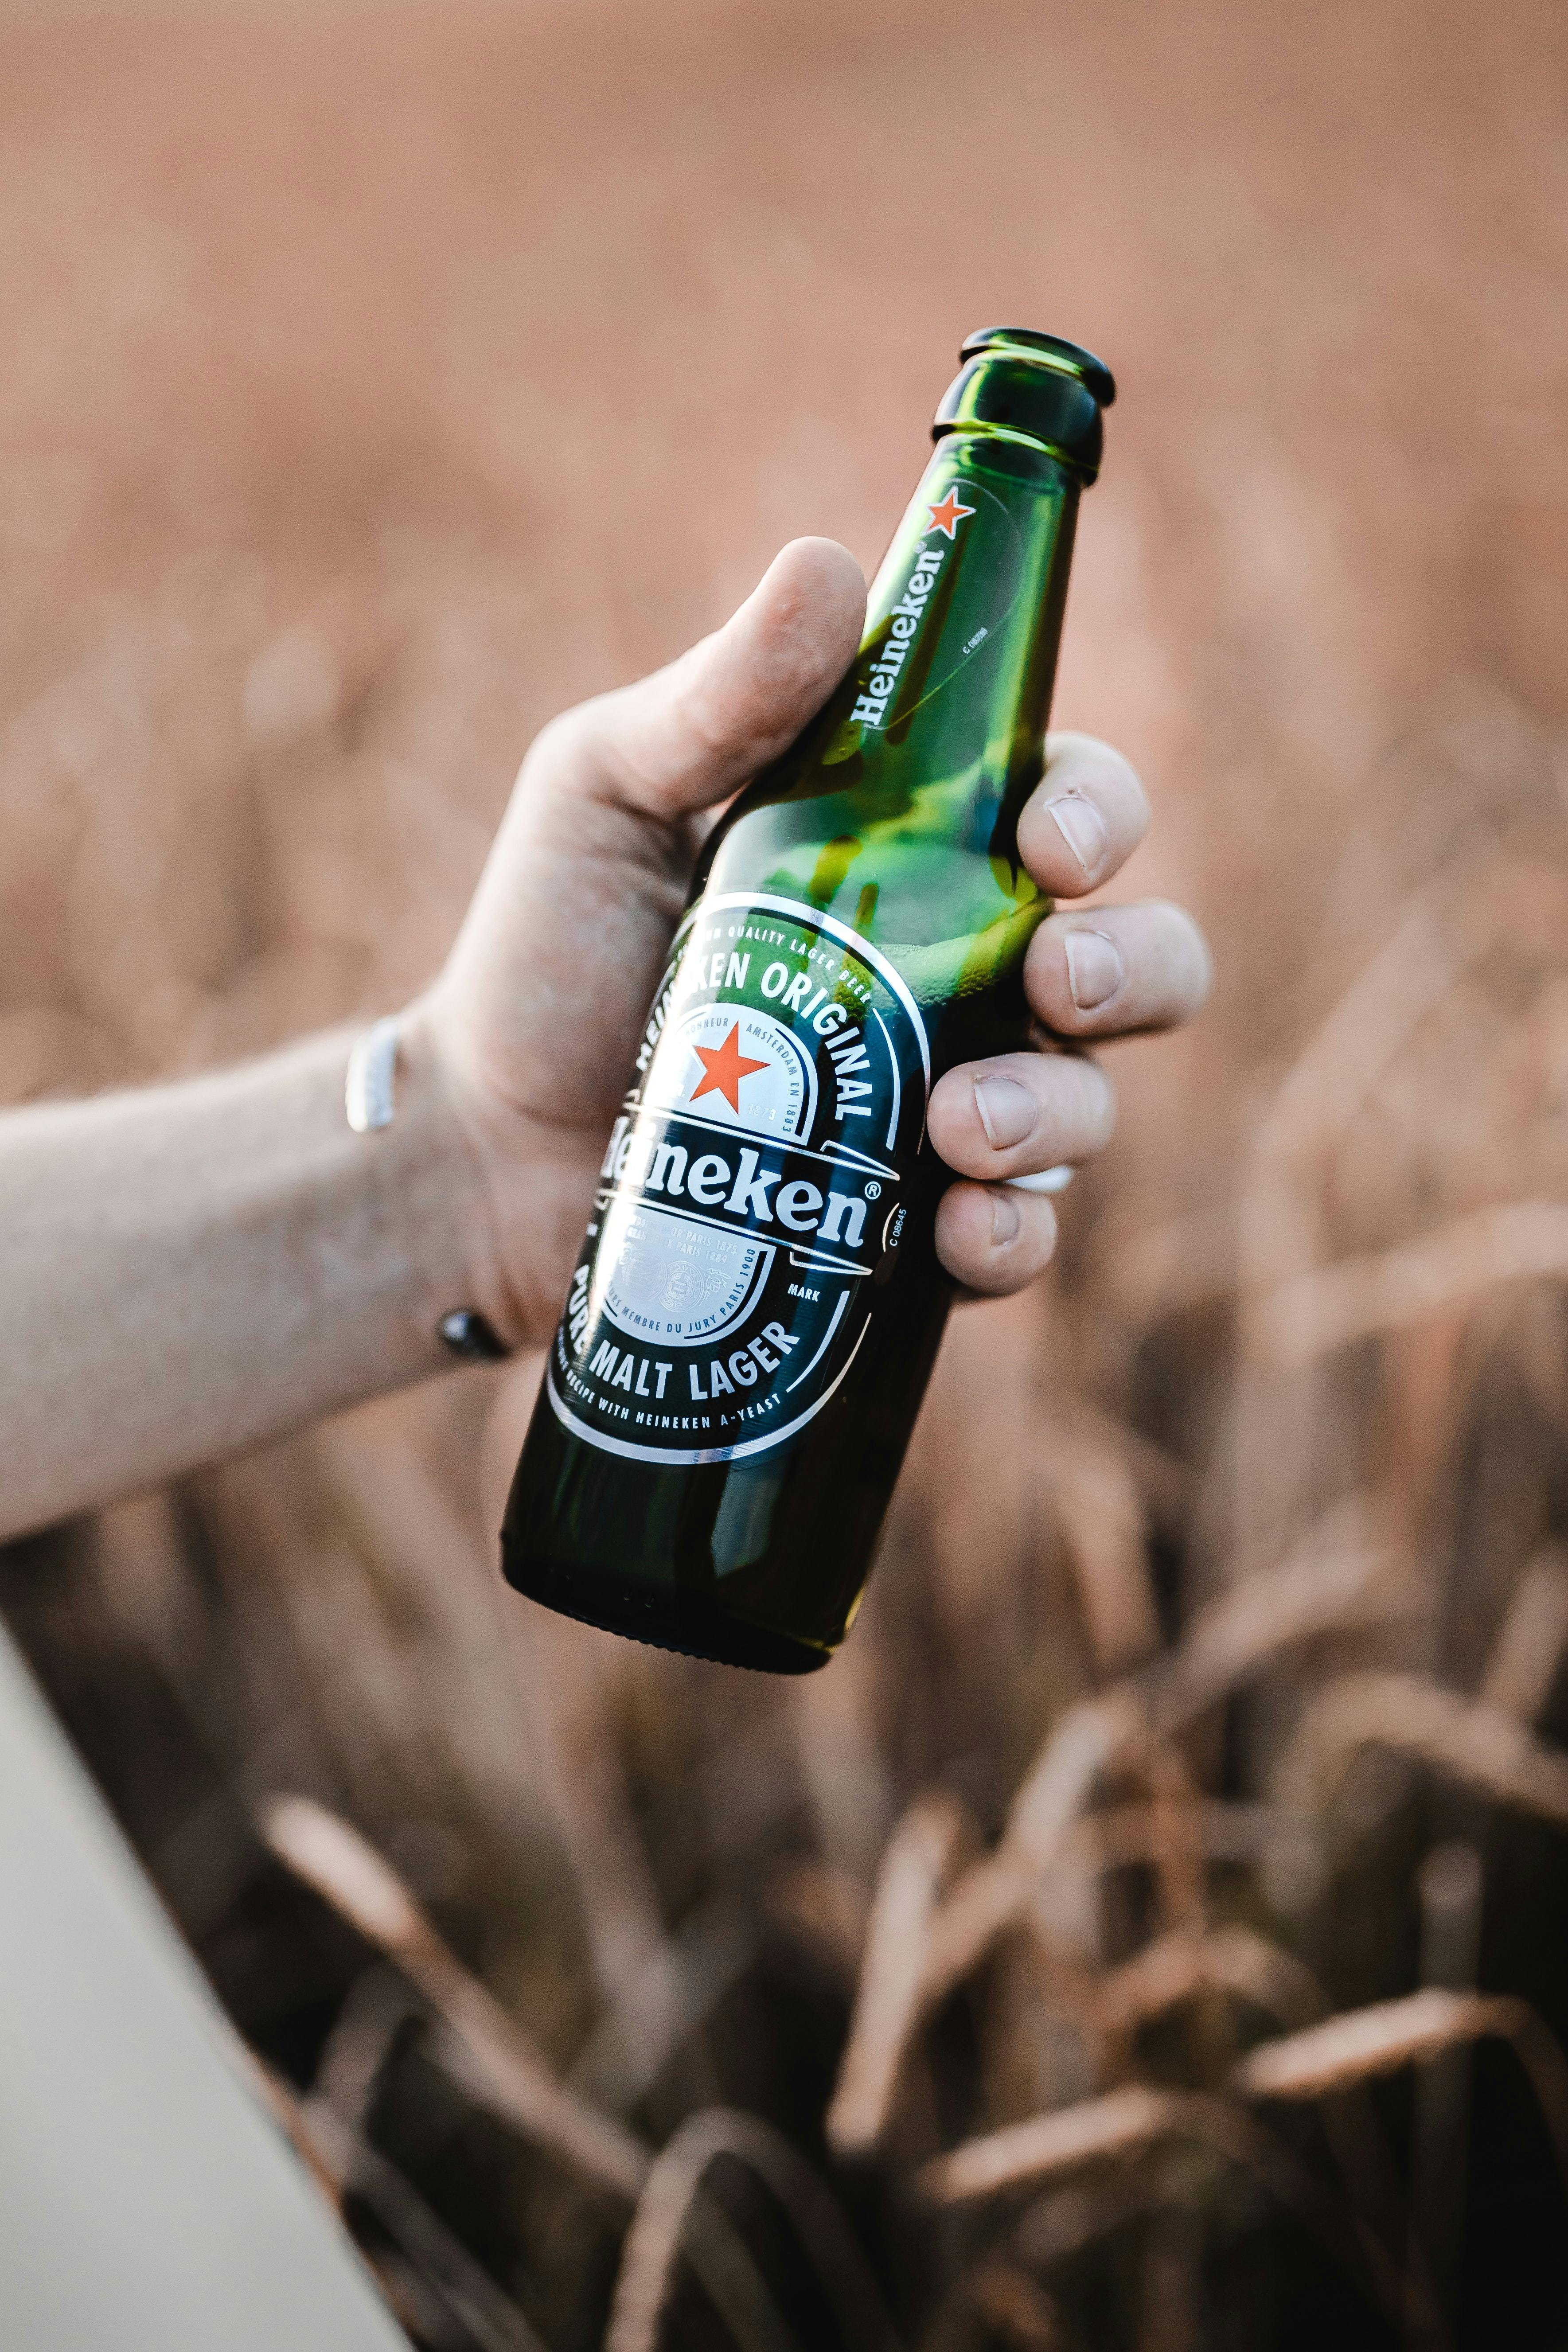glass_bottle: (481, 299, 1136, 1690)
